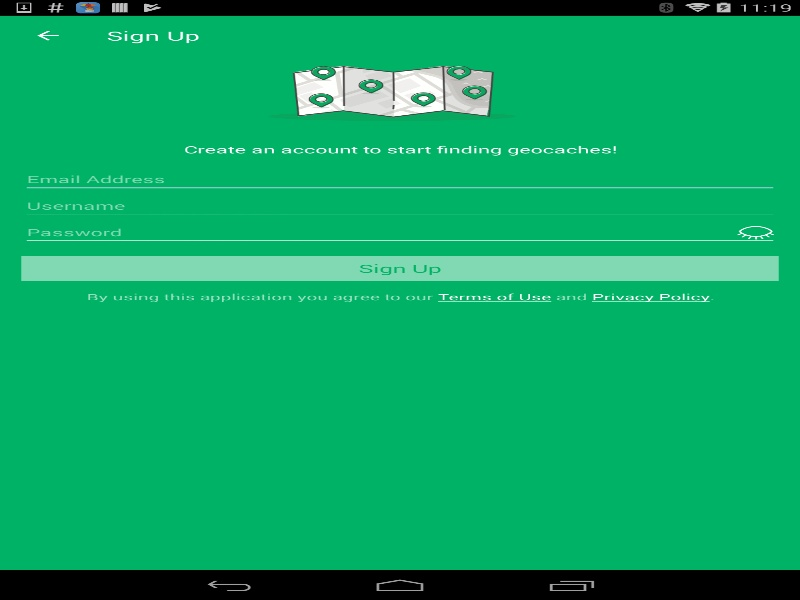Button: (21, 255, 778, 280), (10, 15, 85, 55)
Input: (21, 192, 778, 219), (21, 166, 778, 192), (21, 219, 778, 245)
